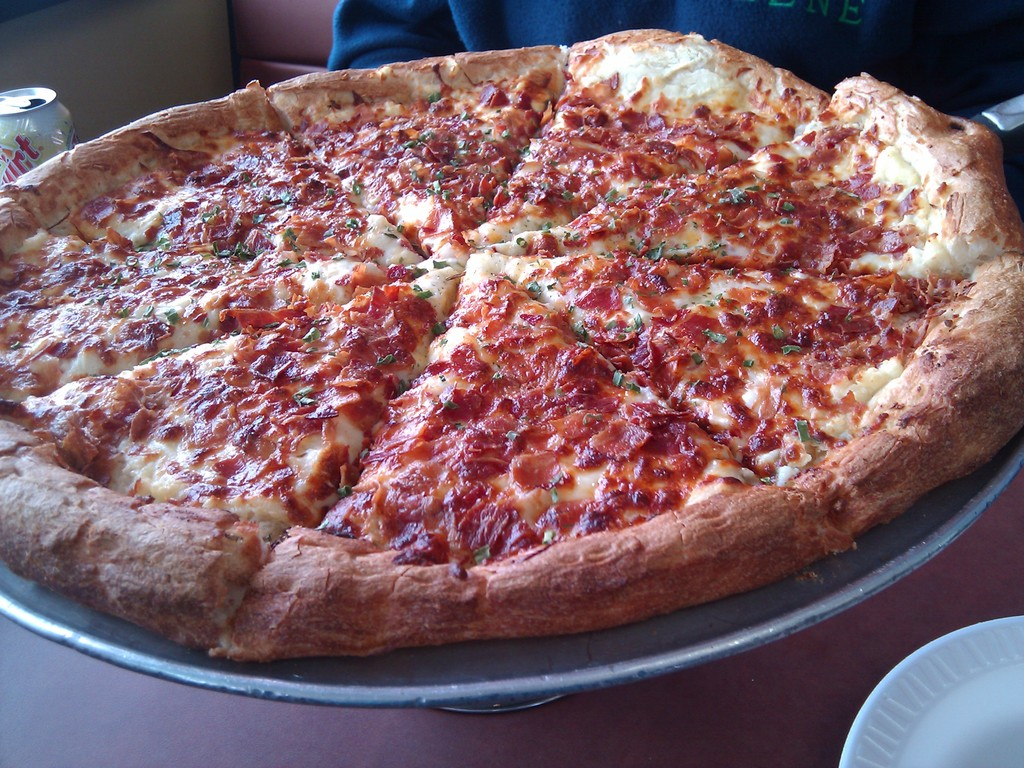Pizza: (1, 39, 1024, 666)
